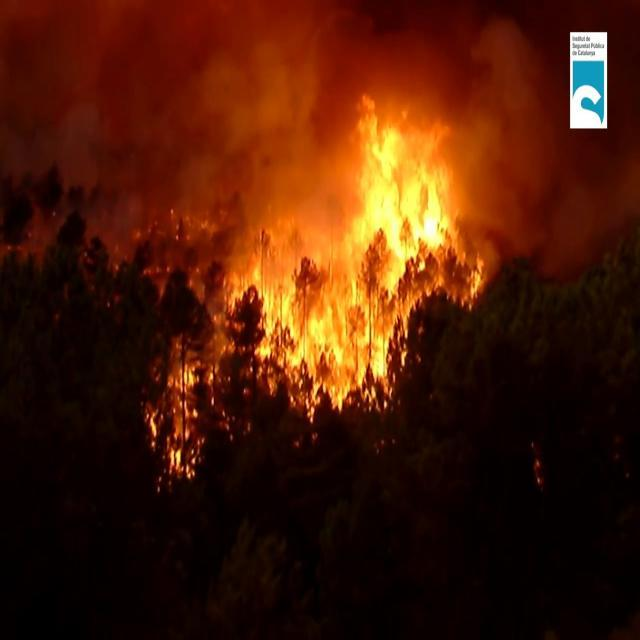Fire: (222, 90, 476, 418)
Smoke: (1, 1, 333, 260), (456, 8, 640, 316)
